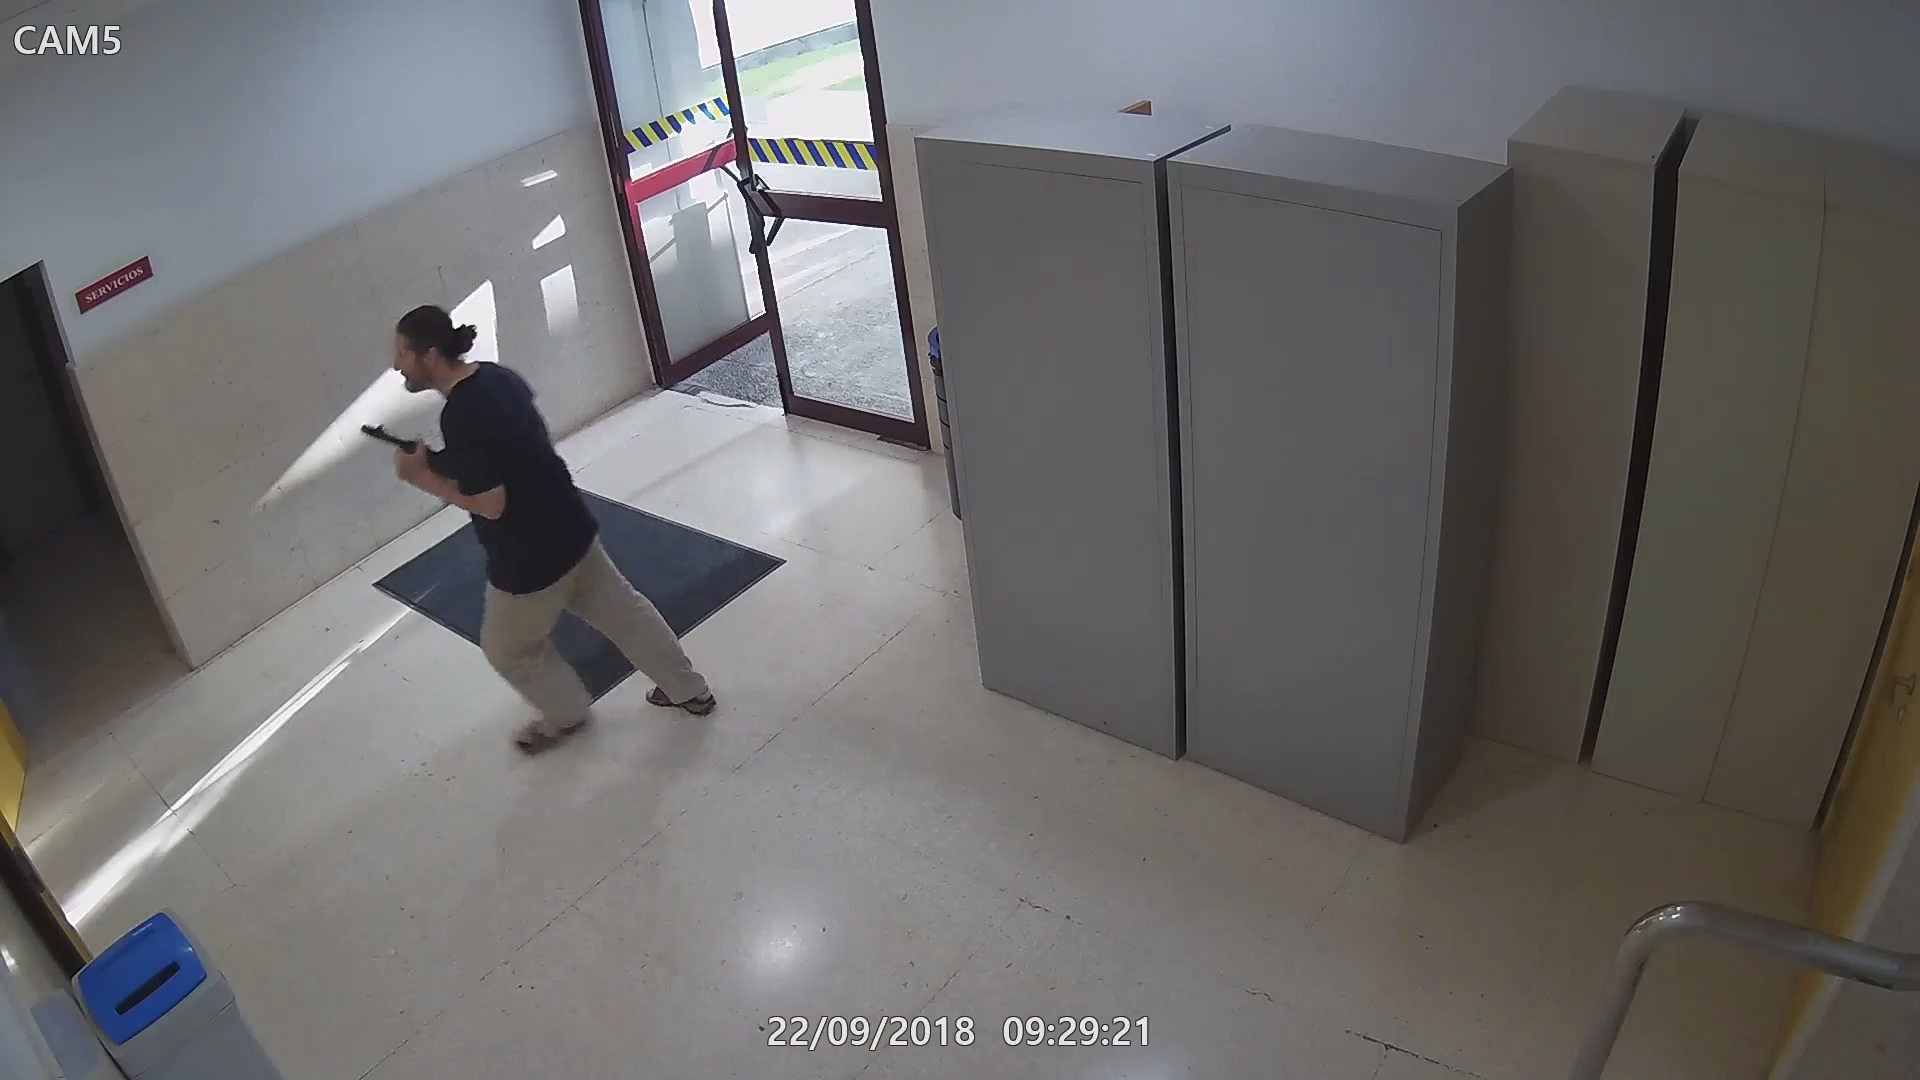Short_rifle: (359, 421, 462, 502)
